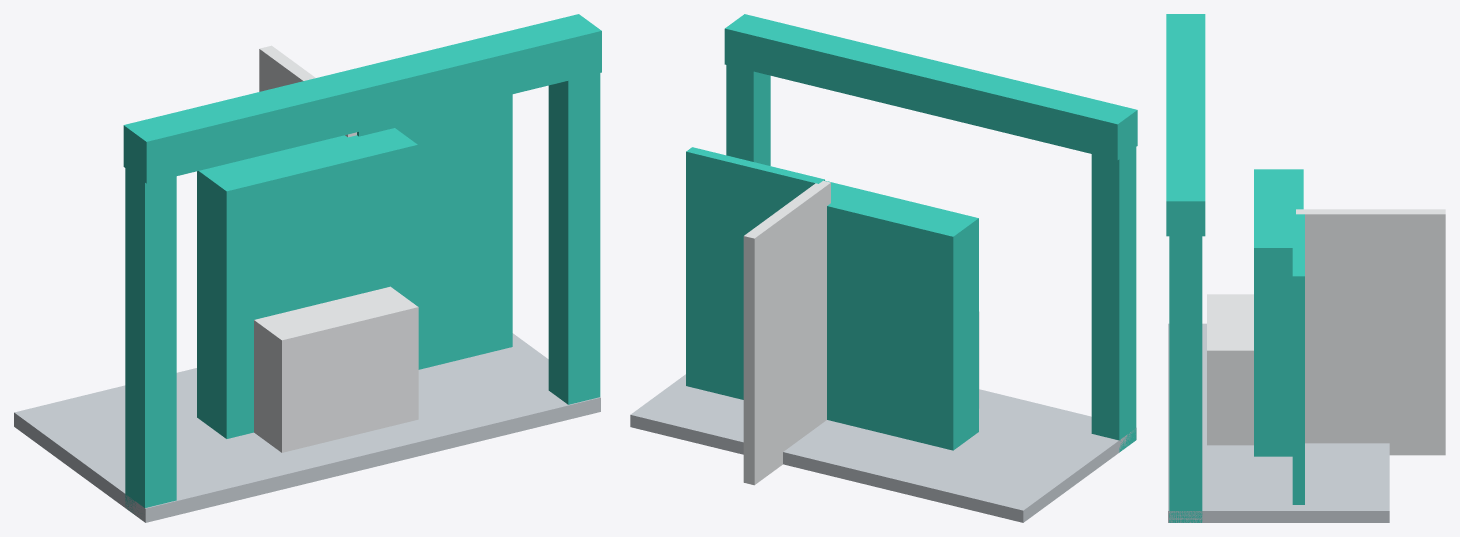
The picture shows the model from 3 angles, left to right: view 1: azimuth 30°, elevation 25°; view 2: azimuth 150°, elevation 25°; view 3: azimuth 270°, elevation 25°; orthographic projection. The views are drawn at different scales.
Visible parts, largest first — view 1: Exhibition Booth Concept; view 2: Exhibition Booth Concept; view 3: Exhibition Booth Concept.
Boxes of the visible parts, x1=… form: Exhibition Booth Concept: x1=14, y1=14, x2=601, y2=522; Exhibition Booth Concept: x1=630, y1=14, x2=1137, y2=522; Exhibition Booth Concept: x1=1166, y1=14, x2=1445, y2=522.
Size of the model in its own units: 4 by 3.2 by 2.52.
